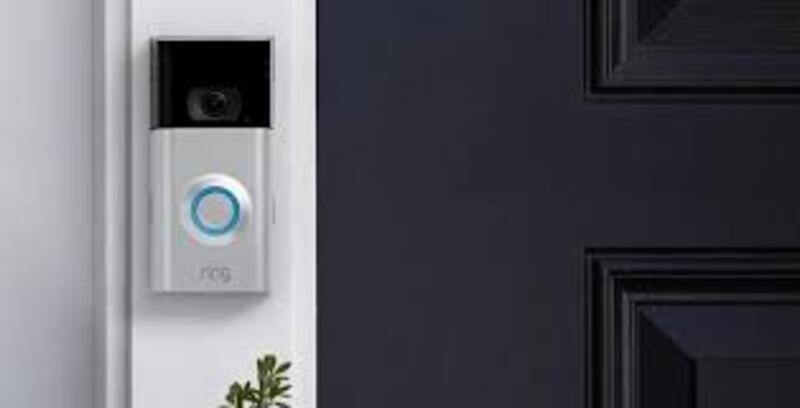doorbell: (137, 22, 280, 304)
